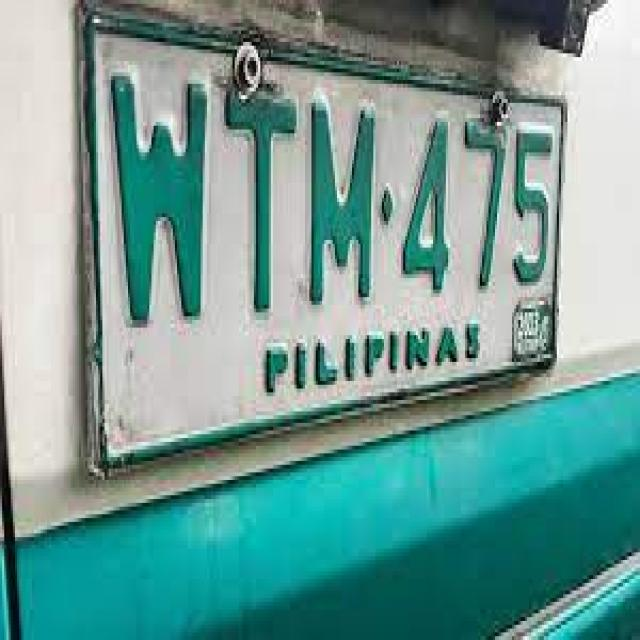number: (85, 0, 561, 472)
